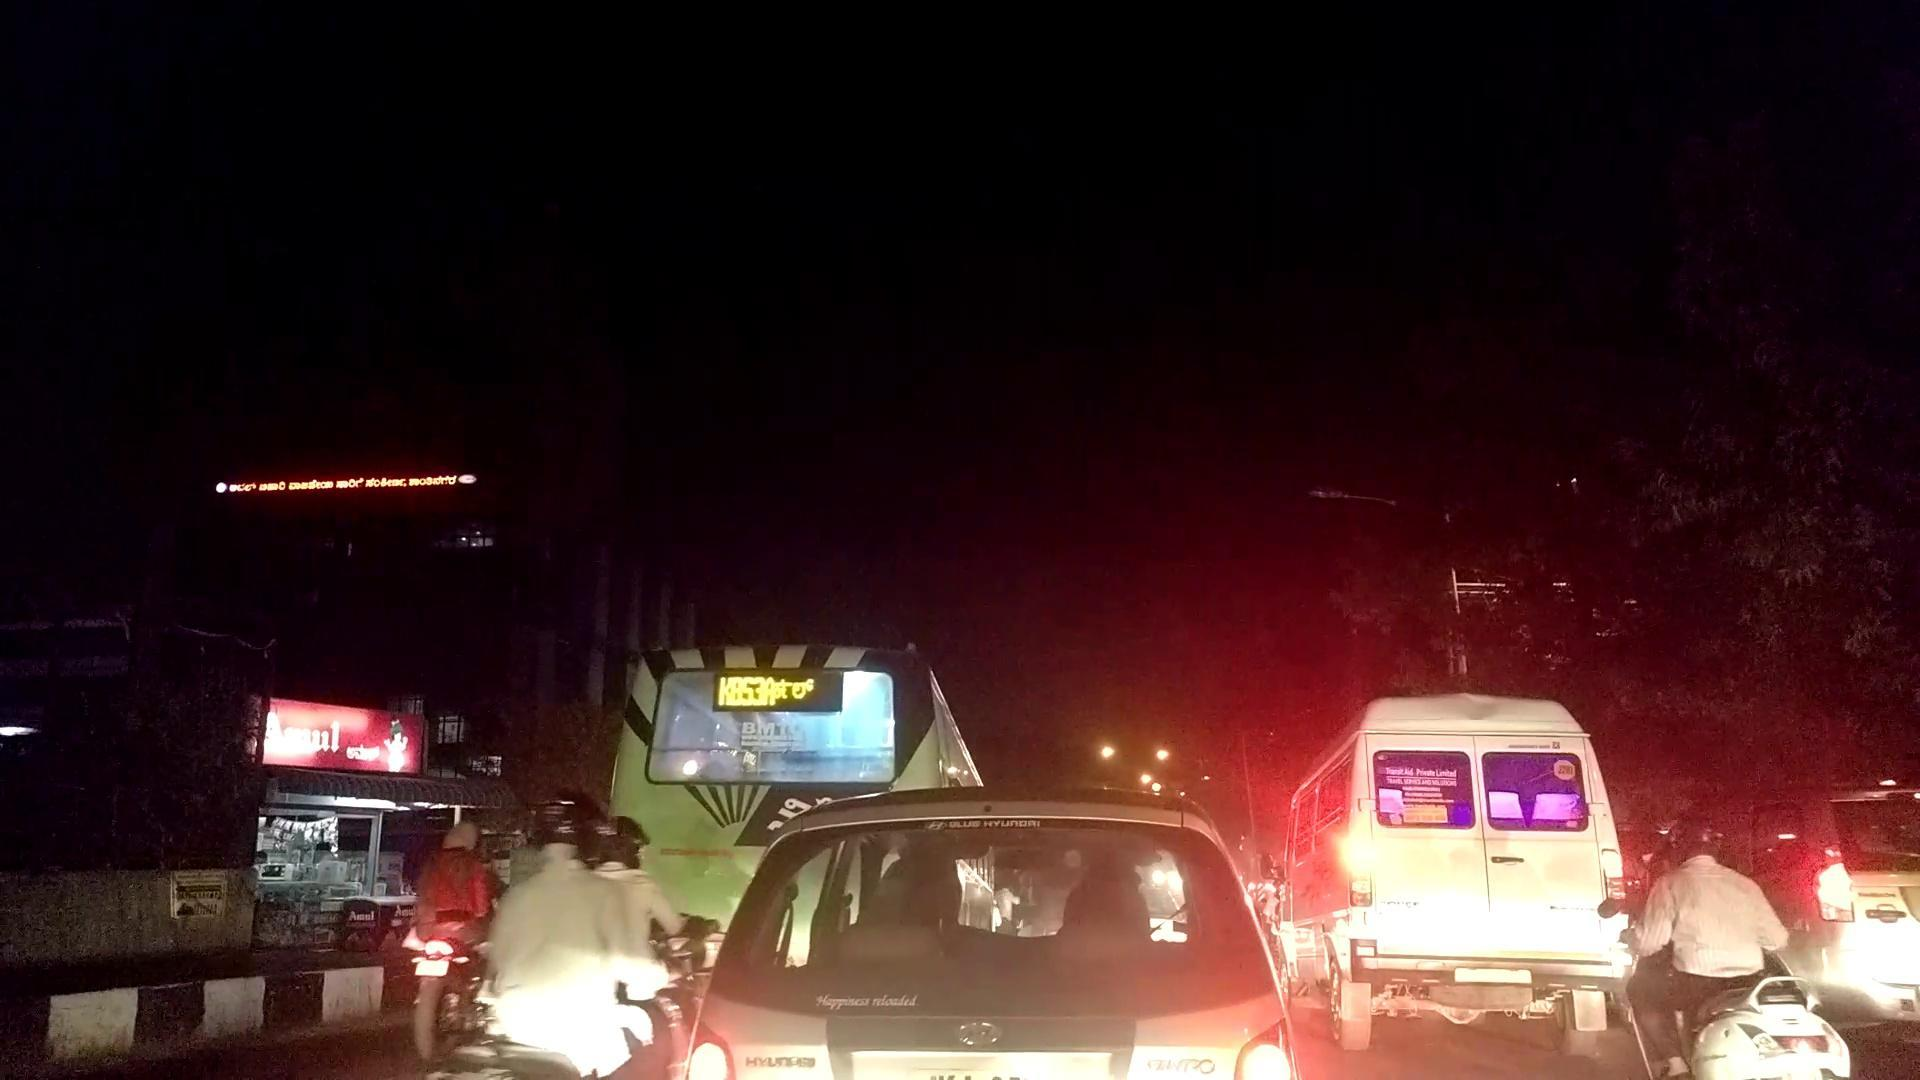on: (0, 51, 1911, 1027)
